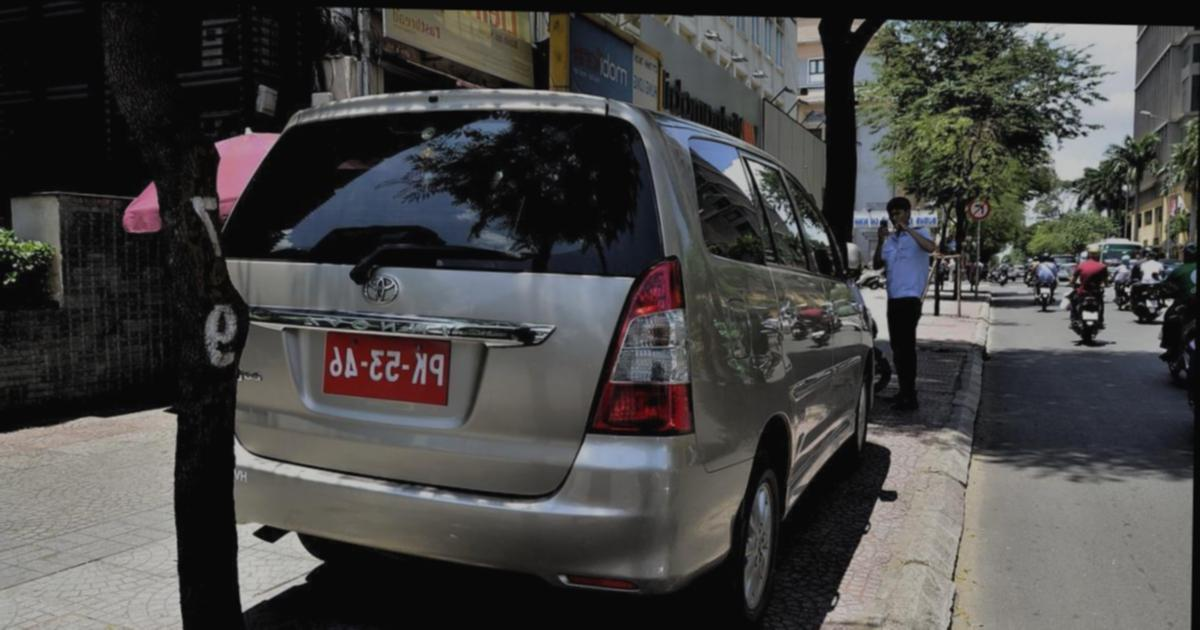License_Plate: (319, 330, 455, 403)
